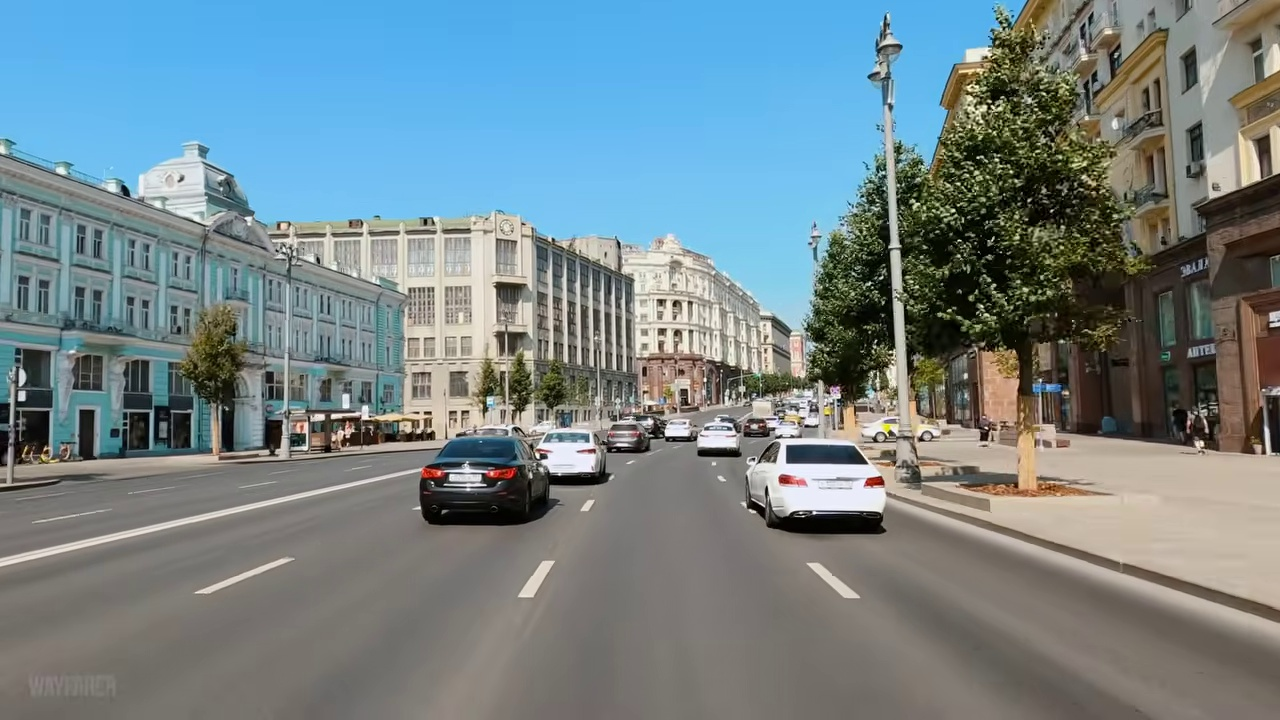apagada: (858, 30, 899, 88)
